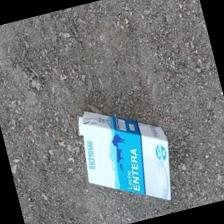Kertas: (78, 111, 169, 198)
